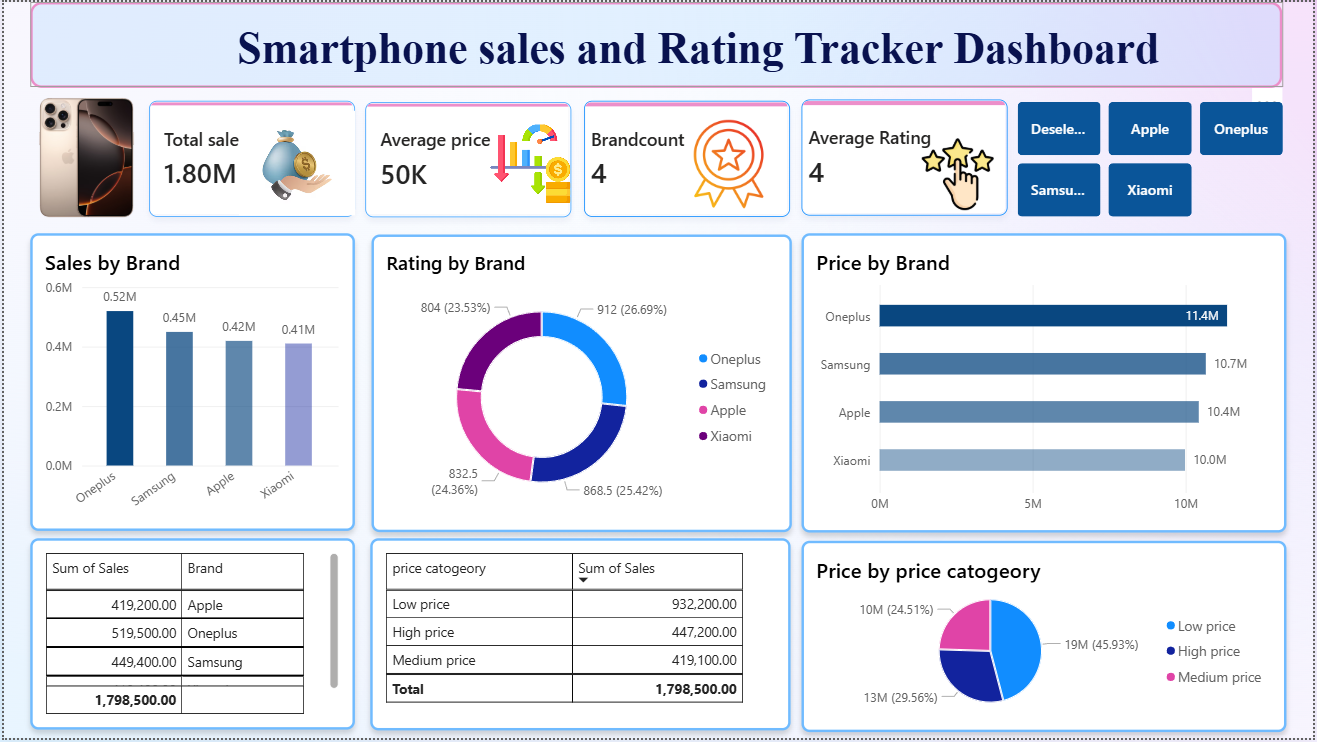

This screenshot's page, from the dashboard's own definition file:
{"tool":"powerbi","page":{"name":"Page 1","canvas":[1280,720],"ordinal":0},"visuals":[{"type":"cardVisual","fields":{"Data":["Dirty_Smartphone_Analytics_850.Total sales"]},"box":[141.4,96.7,202,114],"z":0},{"type":"cardVisual","fields":{"Data":["Dirty_Smartphone_Analytics_850.average price"]},"box":[353.5,98.1,202,112.5],"z":1000},{"type":"cardVisual","fields":{"Data":["Dirty_Smartphone_Analytics_850.brandcount"]},"box":[567,96.7,202,114],"z":2000},{"type":"textbox","box":[26,0,1224.9,83.7],"z":3000},{"type":"image","box":[0,88,161.6,128.4],"z":4000},{"type":"clusteredColumnChart","fields":{"Category":["Dirty_Smartphone_Analytics_850.Brand"],"Y":["Sum(Dirty_Smartphone_Analytics_850.Sales)"]},"box":[26,226.5,317.4,291.4],"z":5000},{"type":"clusteredBarChart","title":"Price by Brand","fields":{"Category":["Dirty_Smartphone_Analytics_850.Brand"],"Y":["Sum(Dirty_Smartphone_Analytics_850.Price)"]},"box":[780.5,226.5,474.7,292.9],"z":6000},{"type":"donutChart","title":"Rating by Brand","fields":{"Category":["Dirty_Smartphone_Analytics_850.Brand"],"Y":["Sum(Dirty_Smartphone_Analytics_850.Rating)"]},"box":[359.2,228,411.2,291.4],"z":7000},{"type":"pieChart","title":" Price by price catogeory","fields":{"Category":["Dirty_Smartphone_Analytics_850.price catogeory"],"Y":["Sum(Dirty_Smartphone_Analytics_850.Price)"]},"box":[780.5,526.6,474.7,187.6],"z":8000},{"type":"advancedSlicerVisual","fields":{"Values":["Dirty_Smartphone_Analytics_850.Brand"]},"box":[991.2,98.1,259.7,112.5],"z":9000},{"type":"tableEx","fields":{"Values":["Sum(Dirty_Smartphone_Analytics_850.Sales)","Dirty_Smartphone_Analytics_850.Brand"]},"box":[26,525.2,317.4,187.6],"z":10000},{"type":"tableEx","fields":{"Values":["Dirty_Smartphone_Analytics_850.price catogeory","Sum(Dirty_Smartphone_Analytics_850.Sales)"]},"box":[358,525,411,188],"z":11000},{"type":"cardVisual","fields":{"Data":["Dirty_Smartphone_Analytics_850.Average Rating"]},"box":[780.5,95.2,202,114],"z":12000},{"type":"image","box":[229.4,106.8,114,102.4],"z":13000},{"type":"image","box":[474.7,119.7,80.8,76.5],"z":14000},{"type":"image","box":[647.8,114,121.2,89.5],"z":15000},{"type":"image","box":[888.7,132.7,88,70.7],"z":16000}]}

Visuals, with their boxes in screenshot pixels (x1, y1, x2, y2), scaled from the page's 1280x720 canvas onto the 1317x742 screenshot:
cardVisual - Dirty_Smartphone_Analytics_850.Total sales: locate(145, 100, 353, 217)
cardVisual - Dirty_Smartphone_Analytics_850.average price: locate(364, 101, 572, 217)
cardVisual - Dirty_Smartphone_Analytics_850.brandcount: locate(583, 100, 791, 217)
textbox: locate(27, 0, 1287, 86)
image: locate(0, 91, 166, 223)
clusteredColumnChart - Dirty_Smartphone_Analytics_850.Brand x Sum(Dirty_Smartphone_Analytics_850.Sales): locate(27, 233, 353, 534)
"Price by Brand" clusteredBarChart: locate(803, 233, 1291, 535)
"Rating by Brand" donutChart: locate(370, 235, 793, 535)
" Price by price catogeory" pieChart: locate(803, 543, 1291, 736)
advancedSlicerVisual - Dirty_Smartphone_Analytics_850.Brand: locate(1020, 101, 1287, 217)
tableEx - Sum(Dirty_Smartphone_Analytics_850.Sales) x Dirty_Smartphone_Analytics_850.Brand: locate(27, 541, 353, 735)
tableEx - Dirty_Smartphone_Analytics_850.price catogeory x Sum(Dirty_Smartphone_Analytics_850.Sales): locate(368, 541, 791, 735)
cardVisual - Dirty_Smartphone_Analytics_850.Average Rating: locate(803, 98, 1011, 216)
image: locate(236, 110, 353, 216)
image: locate(488, 123, 572, 202)
image: locate(667, 117, 791, 210)
image: locate(914, 137, 1005, 210)
